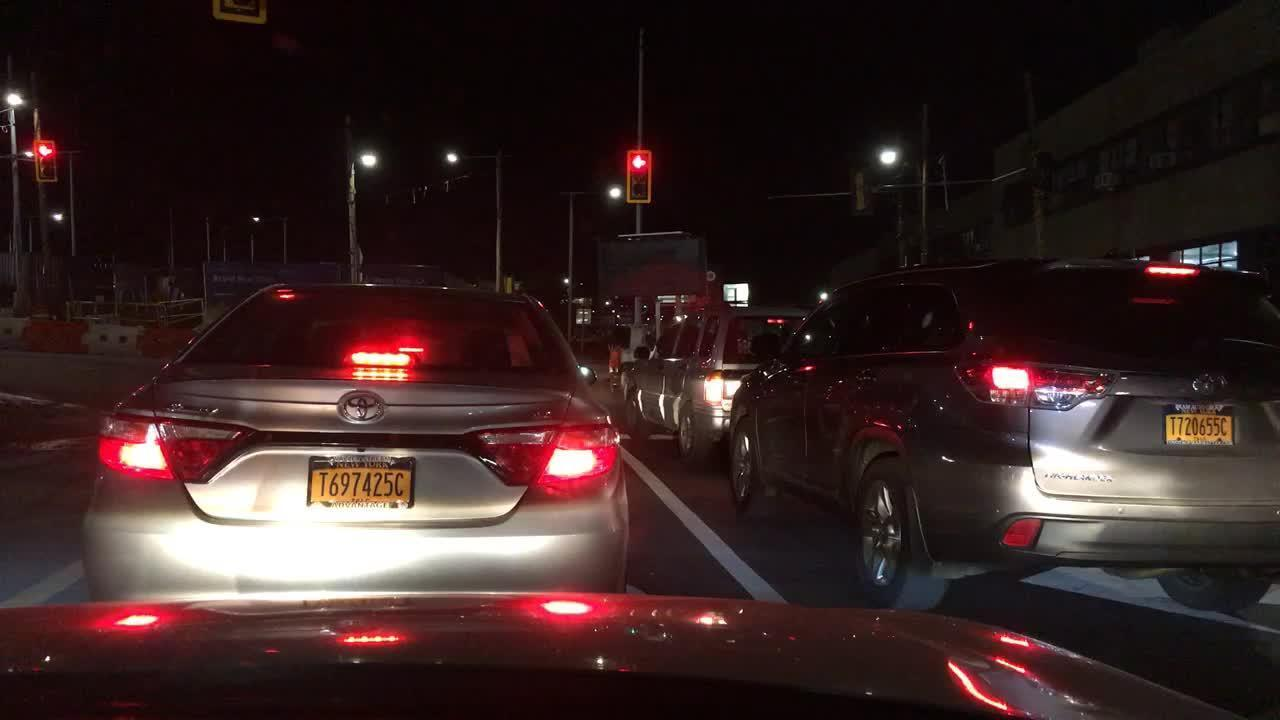Toyota: (333, 391, 388, 426), (1183, 365, 1230, 403)
